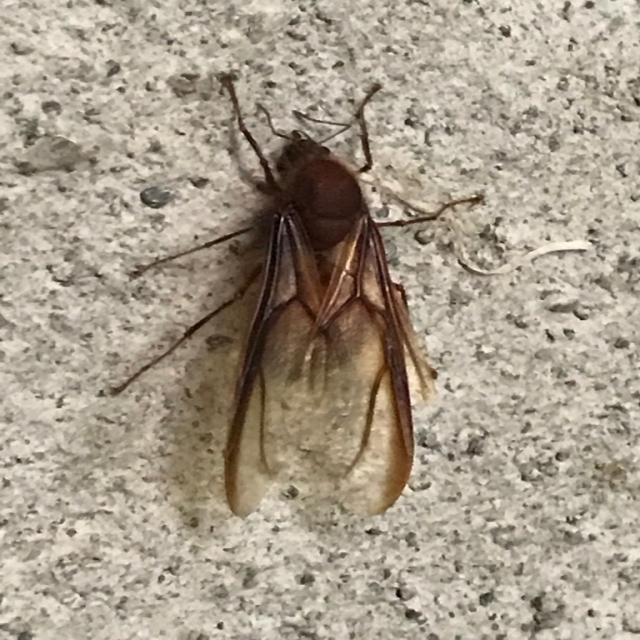Alive-Male-Alate: (100, 78, 486, 508)
